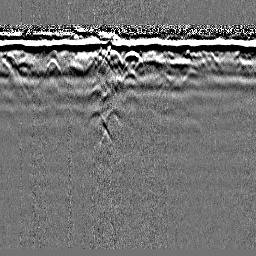cavity: (120, 47, 144, 65)
